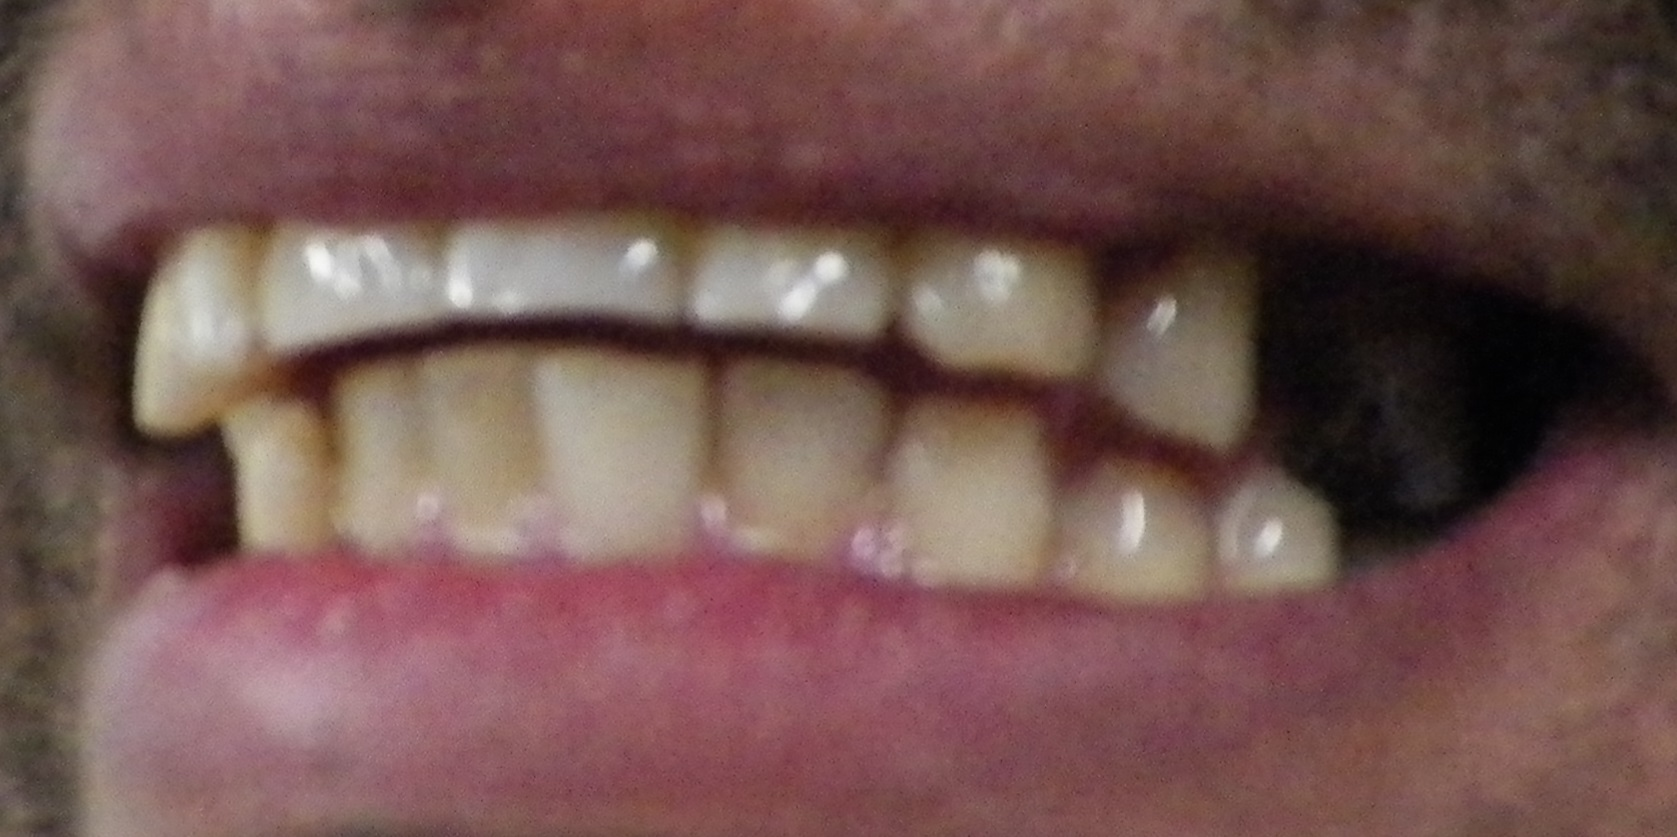boca: (123, 235, 1340, 574)
